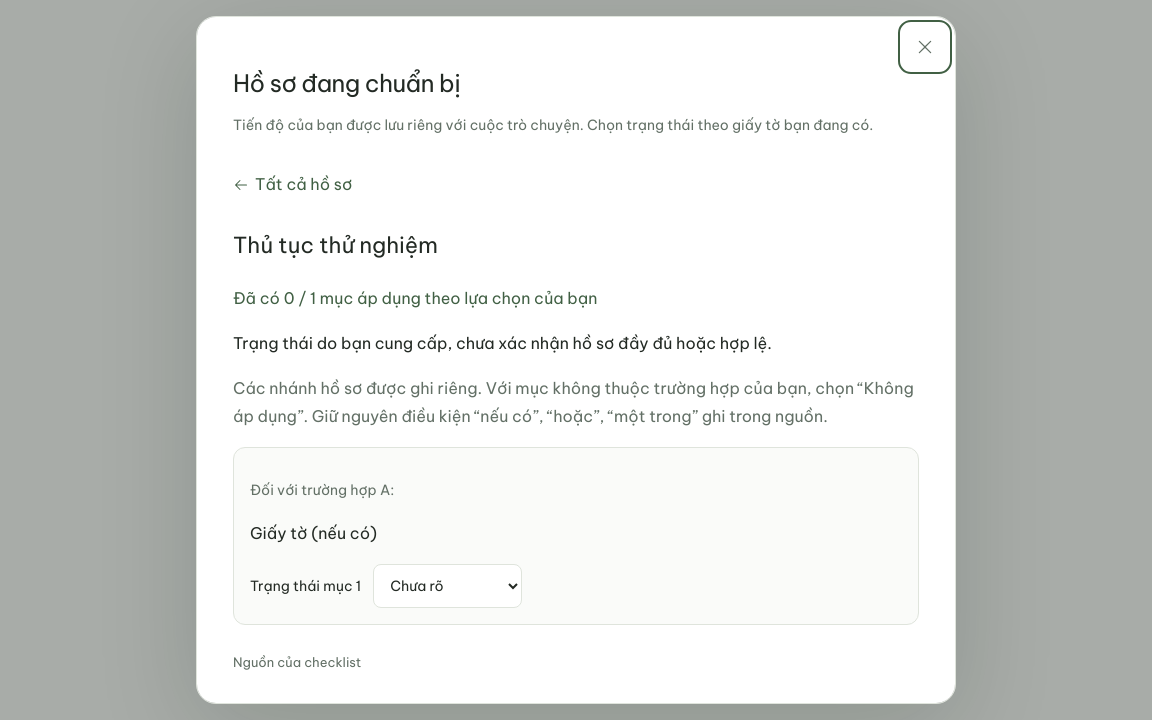
creates from a source message, keeps conditions and sends explicit revision
Expected: the text "Giấy tờ (nếu có)" is shown, x1=250 y1=523 x2=377 y2=543
Step 1. Select "Đã có" in the dropdown → (448, 586), box x1=373 y1=564 x2=522 y2=608
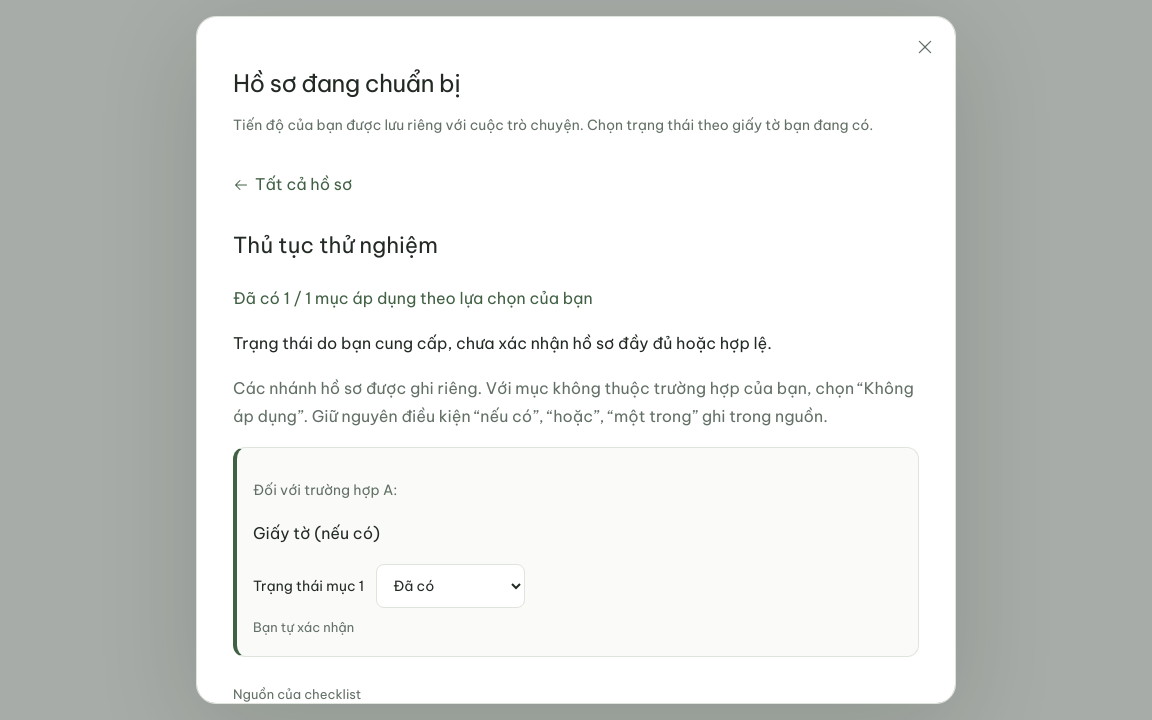
Expected: the text "Bạn tự xác nhận" is shown, x1=253 y1=619 x2=354 y2=635
